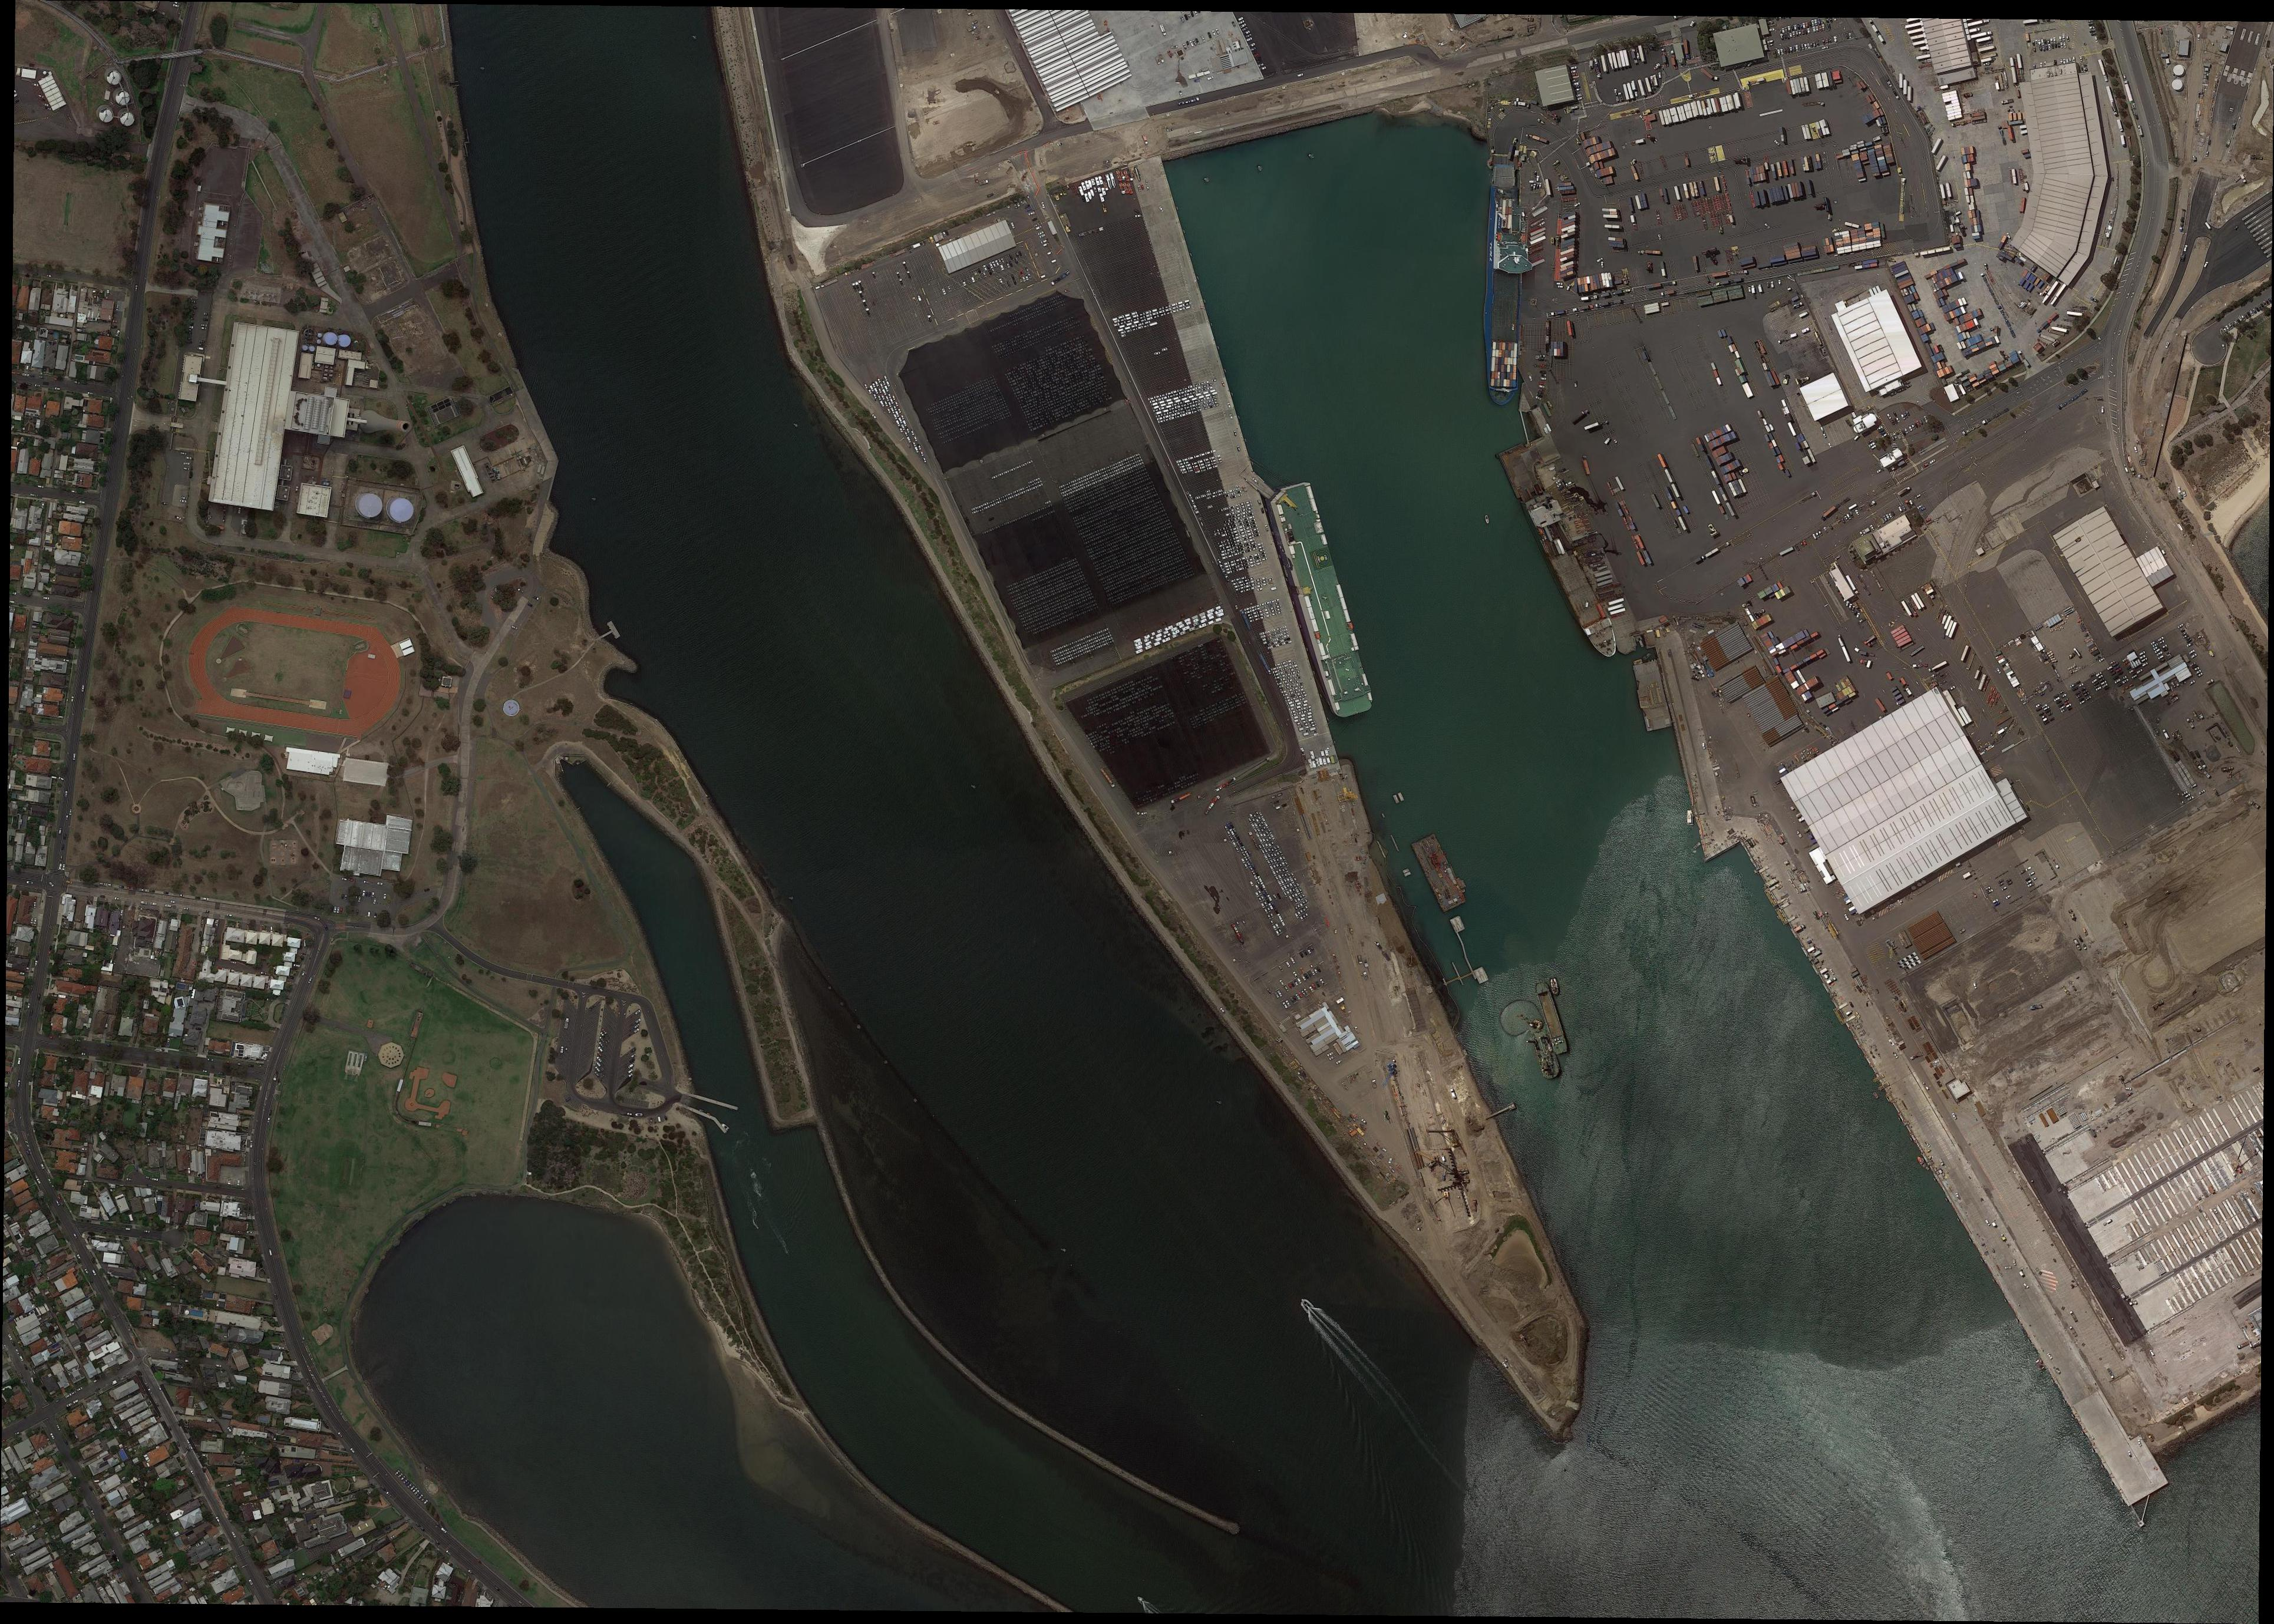harbor: (694, 1095, 738, 1111), (1487, 1104, 1515, 1120), (606, 620, 620, 640), (713, 1118, 728, 1134)
ship: (1264, 482, 1374, 719), (1520, 492, 1624, 663), (1483, 165, 1525, 406), (1534, 981, 1569, 1055), (1531, 1028, 1562, 1081), (1687, 810, 1694, 826), (1485, 515, 1490, 524)
